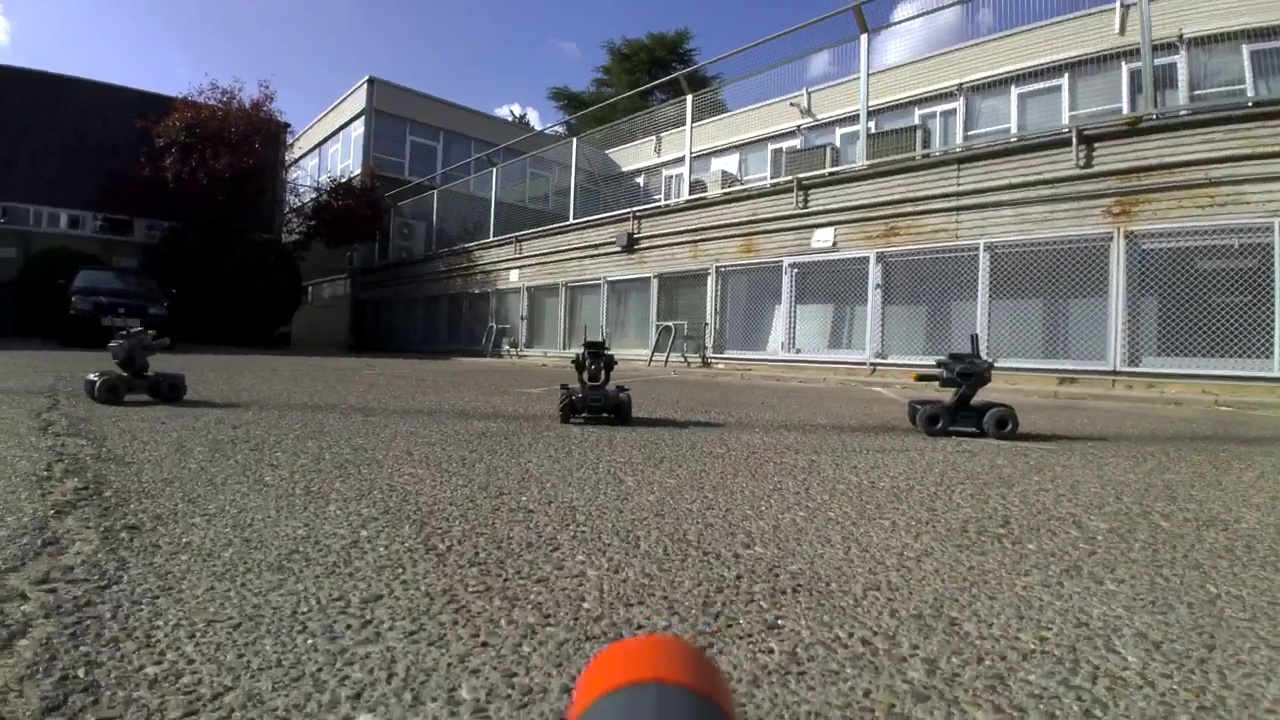robot: (908, 330, 1019, 440), (80, 311, 189, 406), (557, 324, 633, 424)
